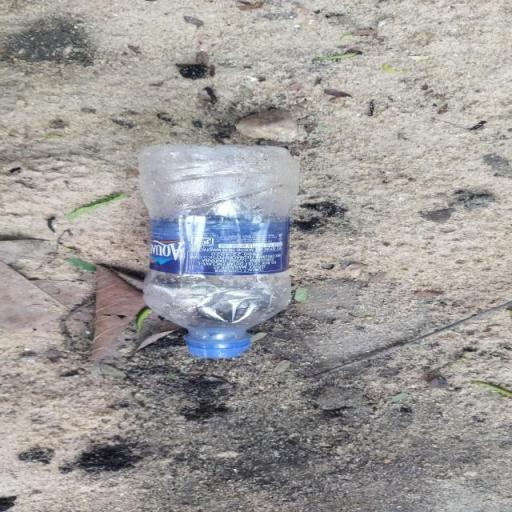plastic: (134, 142, 304, 360)
